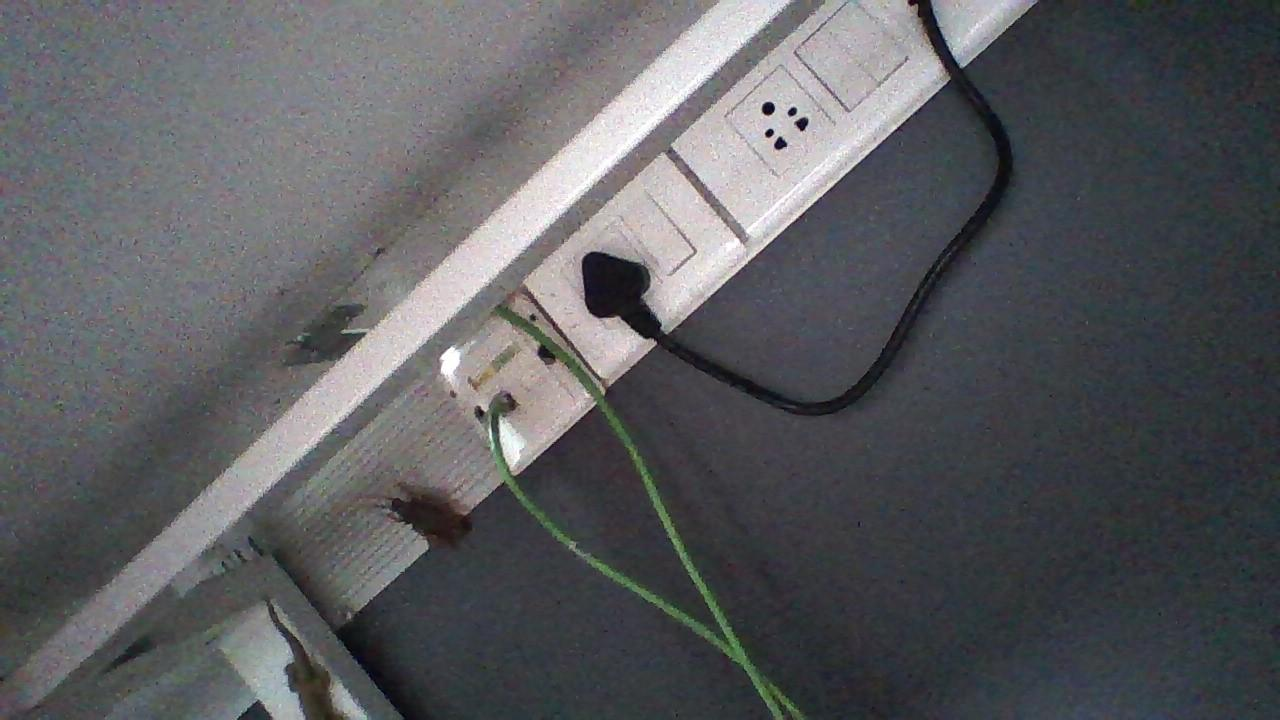cockroach: (329, 475, 481, 565)
lizard: (249, 582, 345, 720)
